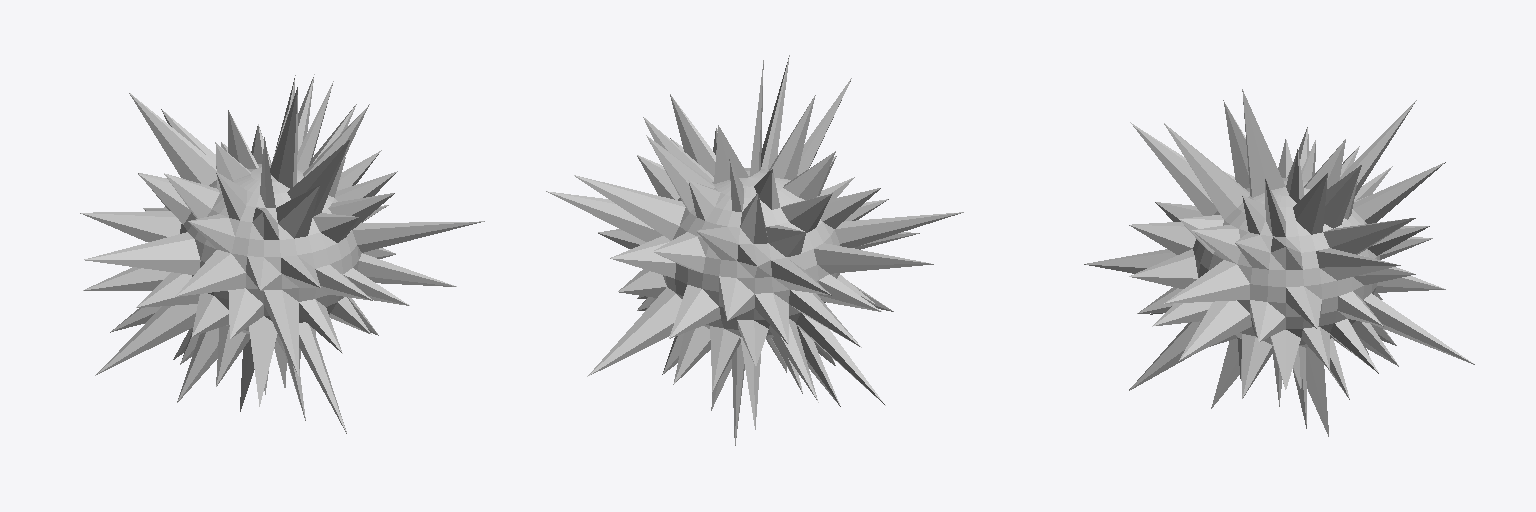
The model's file is SpikyBall.obj.
3 views of the same model, side by side, from view 1: azimuth 30°, elevation 25°; view 2: azimuth 150°, elevation 25°; view 3: azimuth 270°, elevation 25° (orthographic).
Parts seen in each view (by area): view 1: Sphere; view 2: Sphere; view 3: Sphere.
Part boxes in pixels (left/top/right/bottom): Sphere: left=80, top=74, right=484, bottom=433; Sphere: left=546, top=55, right=963, bottom=445; Sphere: left=1084, top=89, right=1474, bottom=436.
Size of the model in its own units: 1 by 1 by 1.